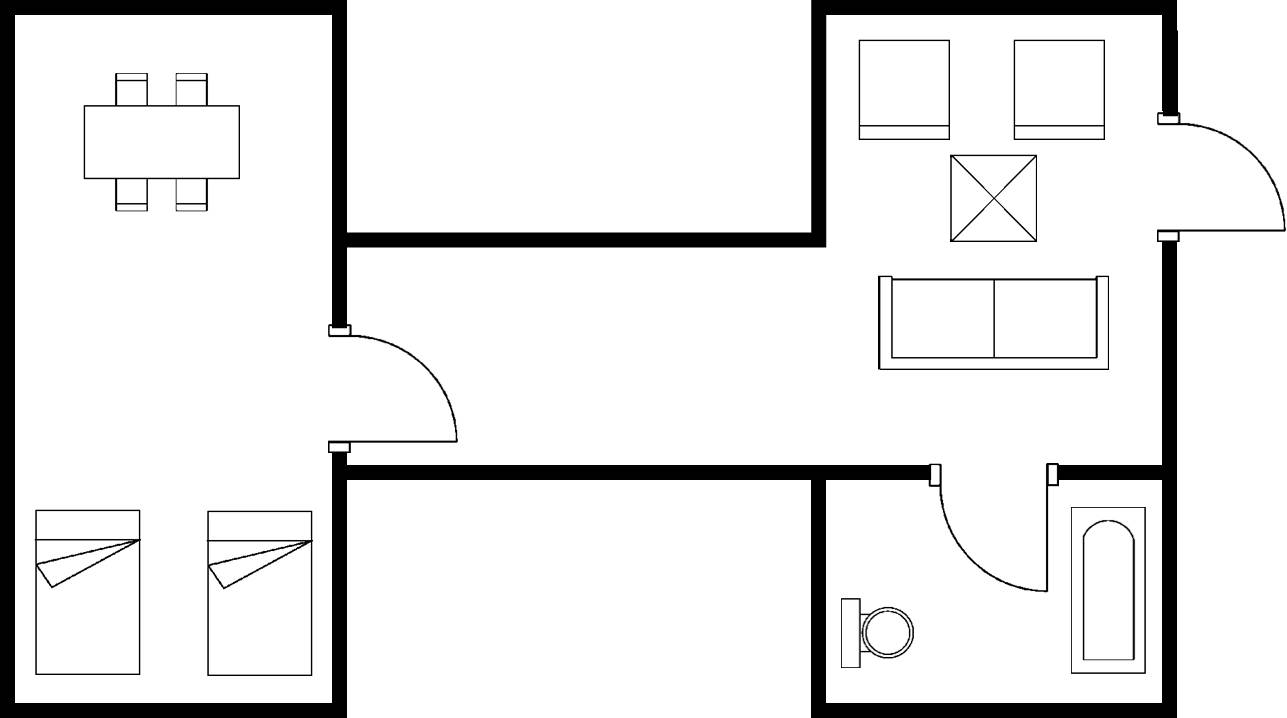bed: (202, 503, 318, 684), (29, 504, 146, 683)
coffee_table: (943, 147, 1043, 249)
dining_table: (75, 65, 249, 219)
large_sink: (835, 593, 918, 676)
large_sofa: (868, 268, 1116, 377)
small_sofa: (1005, 34, 1115, 147), (853, 34, 956, 146)
tub: (1061, 500, 1153, 677)
